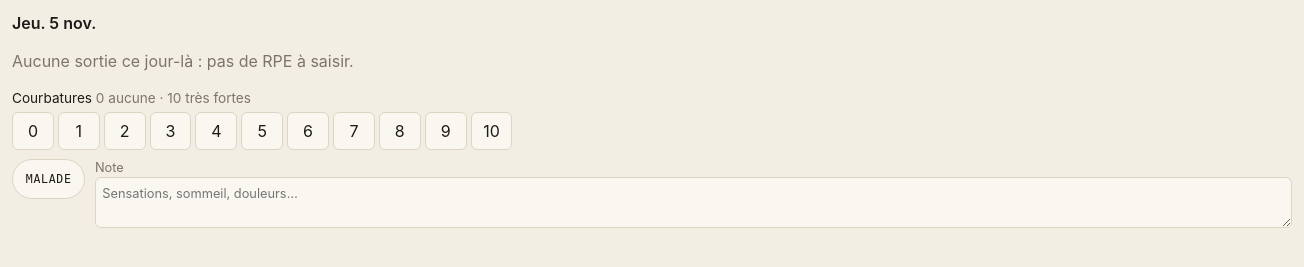
Test: Saisie du soir › erreur d'enregistrement : le message de l'API est affiché
Click the button named "Courbatures : 2": (125, 131) [104,112,146,150]
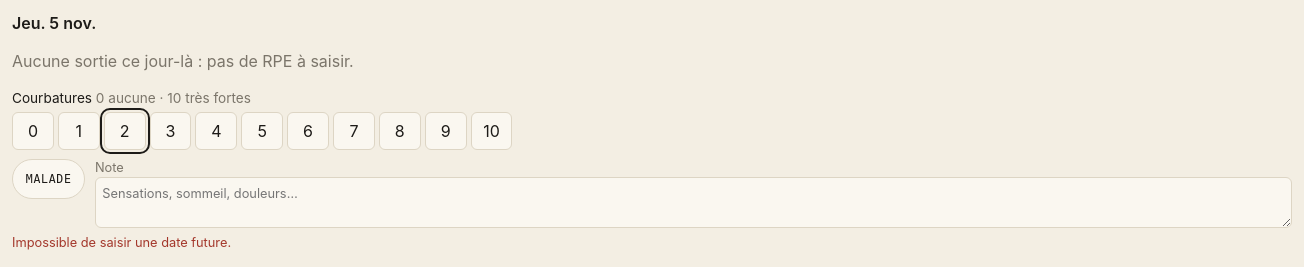
Result: the text "Impossible de saisir une date future." is shown at [12,235,231,250]
